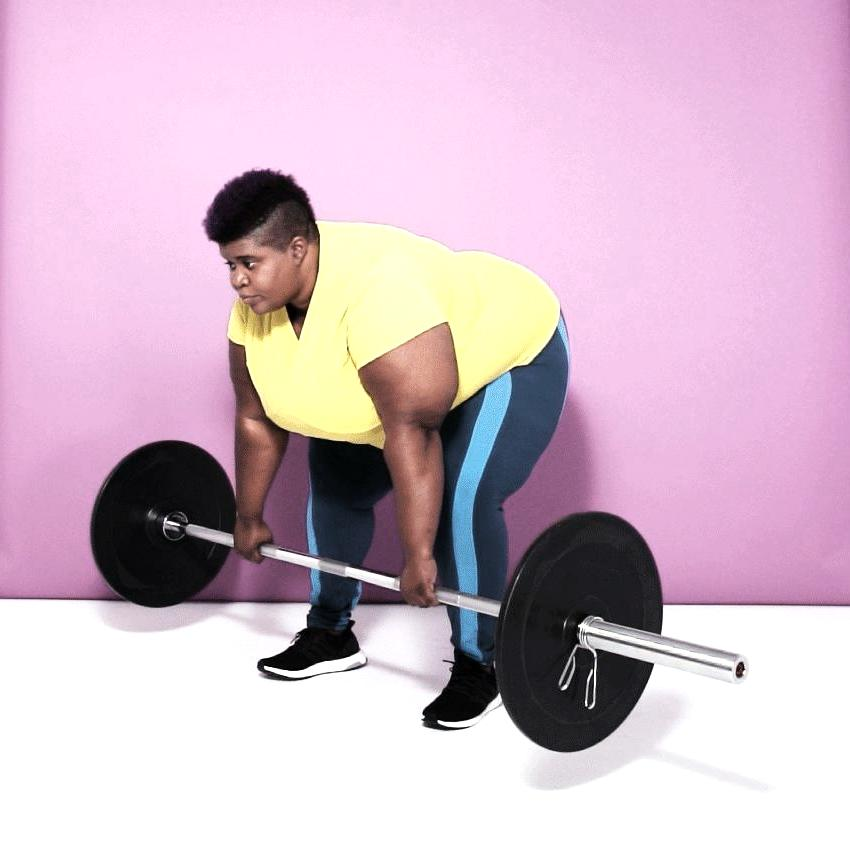Barbell: (722, 652, 753, 692)
